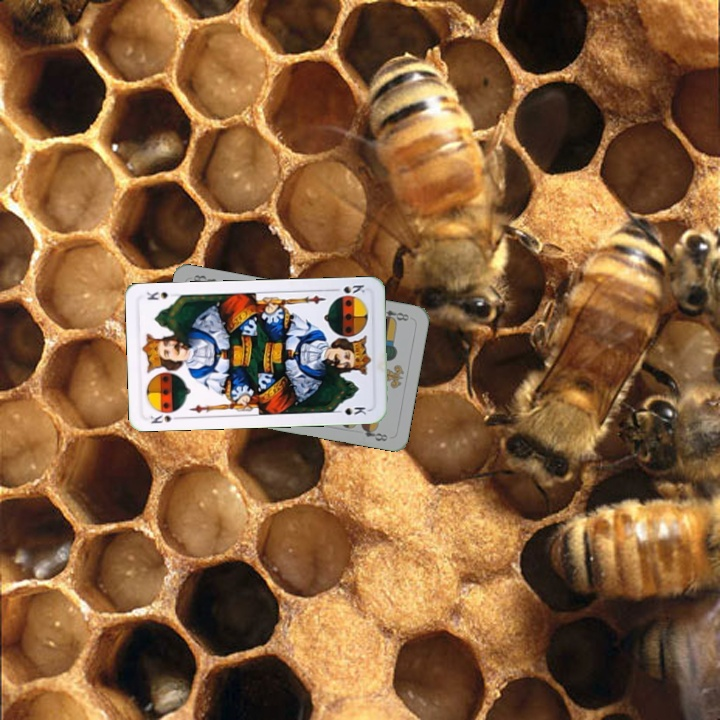E8: (377, 306, 412, 325)
SK: (146, 406, 184, 426), (328, 281, 367, 296)
